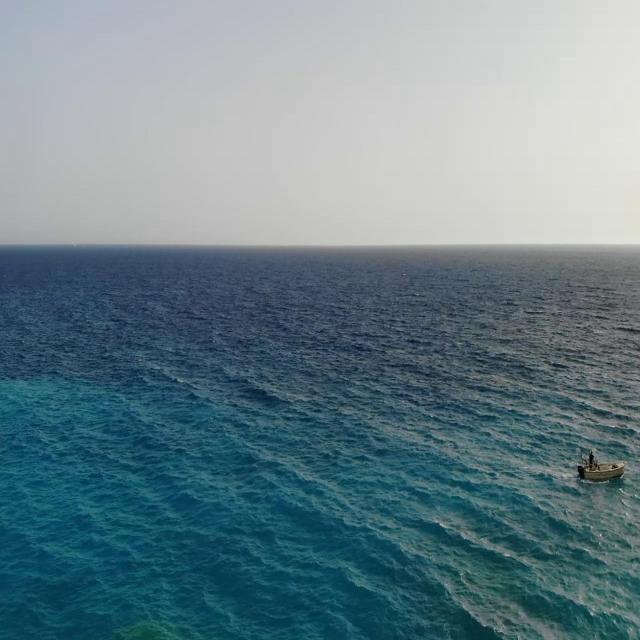boat: (575, 453, 623, 485)
